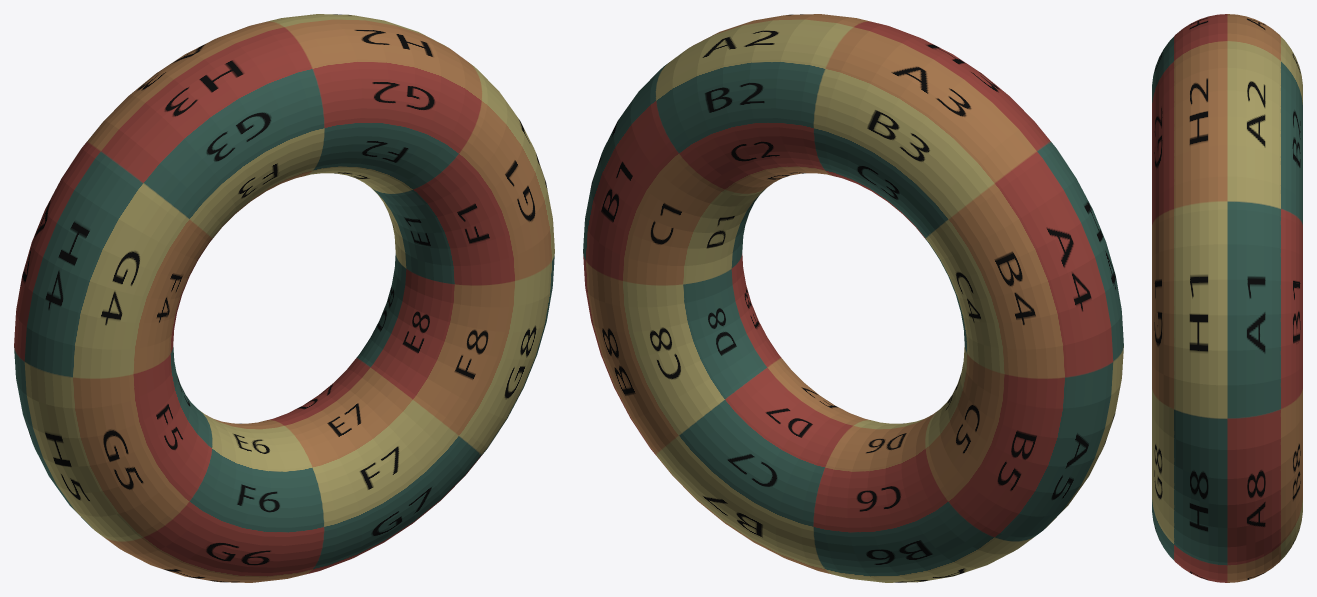
File: texture_torus_R11_r16.glb
The picture shows the model from 3 angles, left to right: view 1: azimuth 30°, elevation 25°; view 2: azimuth 150°, elevation 25°; view 3: azimuth 270°, elevation 25°; orthographic projection. The views are drawn at different scales.
Parts seen in each view (by area): view 1: world; view 2: world; view 3: world.
Boxes of the visible parts, x1=… form: world: x1=14, y1=14, x2=554, y2=582; world: x1=583, y1=14, x2=1123, y2=582; world: x1=1152, y1=14, x2=1302, y2=582.
Size of the model in its own units: 23.6 by 23.55 by 6.25.
Materials: 1 (1 with a texture image).
